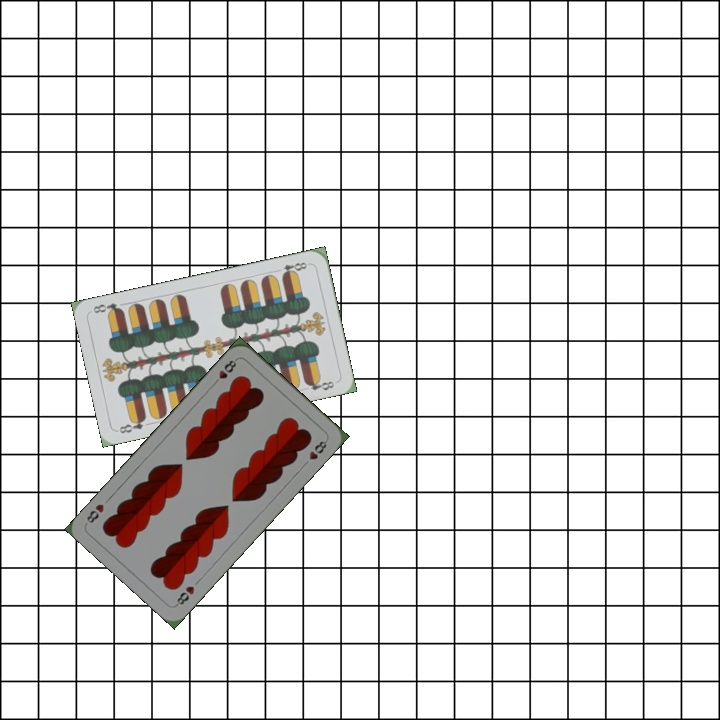E8: (272, 258, 312, 279), (115, 413, 149, 436)
H8: (209, 355, 240, 388), (172, 582, 197, 609)
